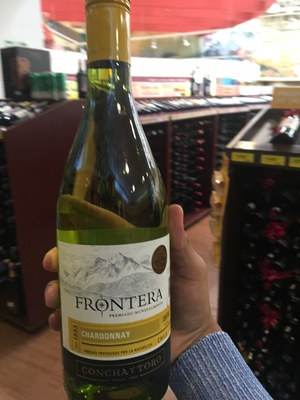frontera chardonnay: (58, 28, 185, 398)
